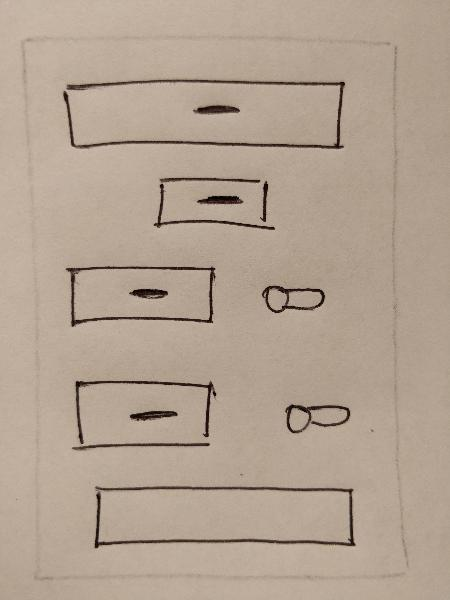button: (56, 74, 349, 157), (63, 259, 221, 332), (68, 377, 217, 454), (145, 172, 280, 238)
switch: (276, 391, 353, 443), (259, 277, 331, 324)
text_input: (87, 478, 363, 559)
